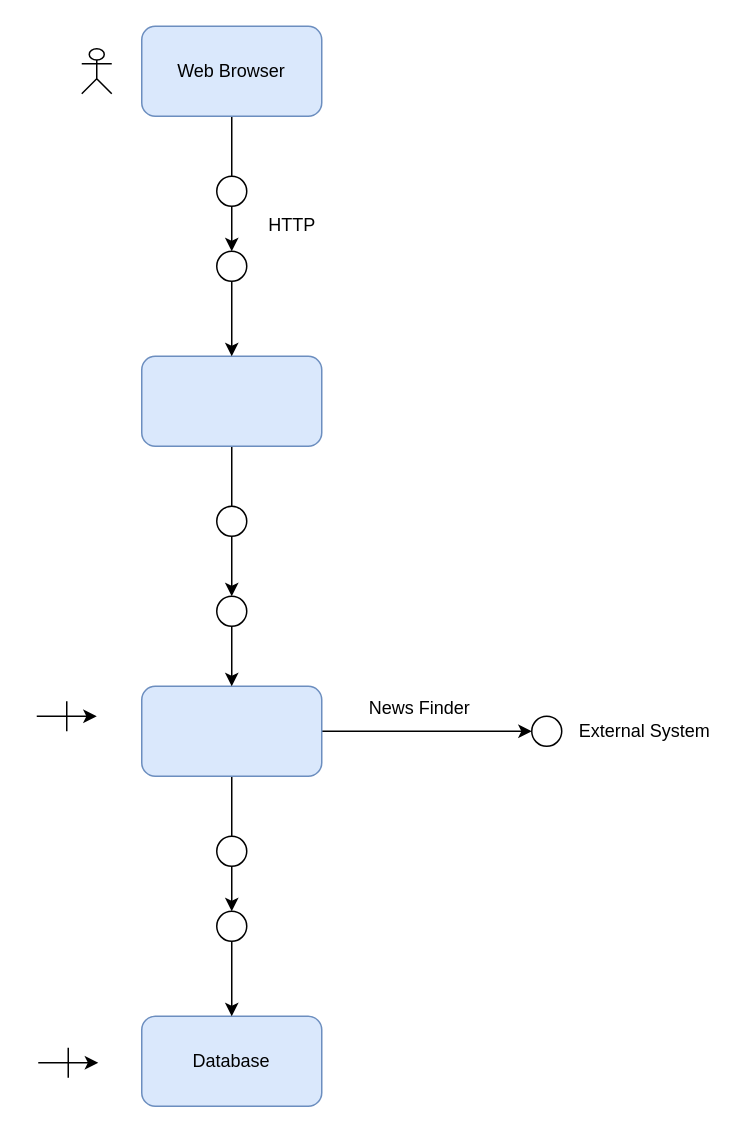
Image size: 753x1133. Some labels were removed from this diagram. Here are the shapes that lost their labels. From the top down, the box of each, then its label:
(140, 355, 322, 446): React Front-End
(140, 685, 322, 776): Web App Server
